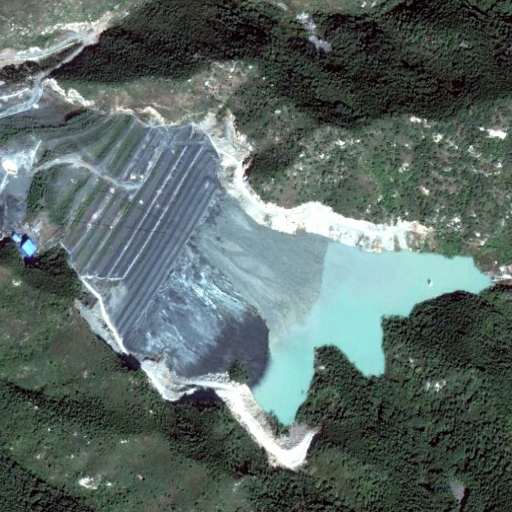tp: (70, 127, 492, 429)
